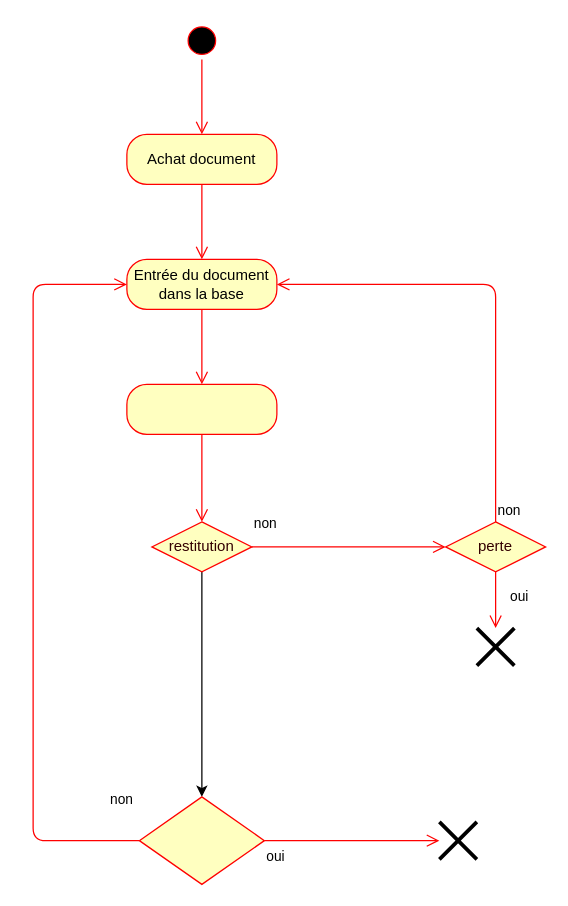
The diagram is 568 pixels wide and 906 high, and some of its shapes have lost their labels. The shapes that lost their labels are listed below. From the top down, each one's centre as x and y in pixels, then its label:
At (201,408): "Emprunt".
At (201,840): "dégradation".
